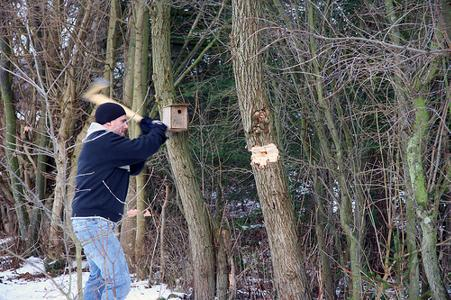person: (70, 103, 170, 300)
